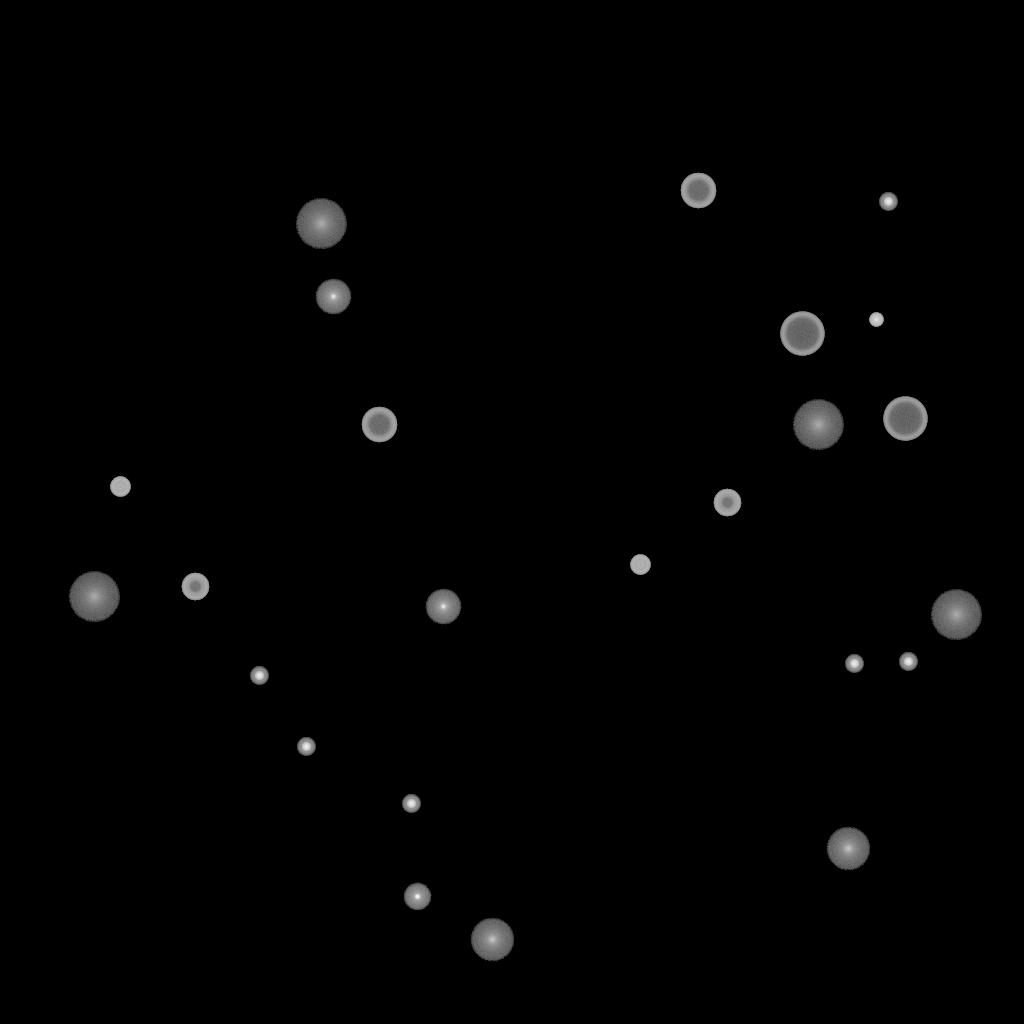depth:-10: (403, 883, 431, 911)
depth:-20: (250, 667, 268, 685), (899, 653, 917, 671), (297, 738, 315, 756), (845, 655, 863, 673), (879, 193, 897, 211), (402, 795, 420, 813)
depth:-30: (869, 313, 883, 327)
depth:-40: (110, 477, 130, 497), (630, 555, 650, 575)
depth:-50: (181, 573, 209, 601), (713, 489, 741, 517)
depth:-60: (361, 407, 397, 443), (680, 173, 716, 209)
depth:-70: (780, 312, 824, 356), (883, 397, 927, 441)
depth:0: (425, 589, 461, 625), (315, 279, 351, 315)
depth:10: (470, 918, 514, 962), (826, 827, 870, 871)
depth:20: (68, 572, 120, 622), (930, 590, 982, 640), (295, 199, 347, 249), (792, 400, 844, 450)
